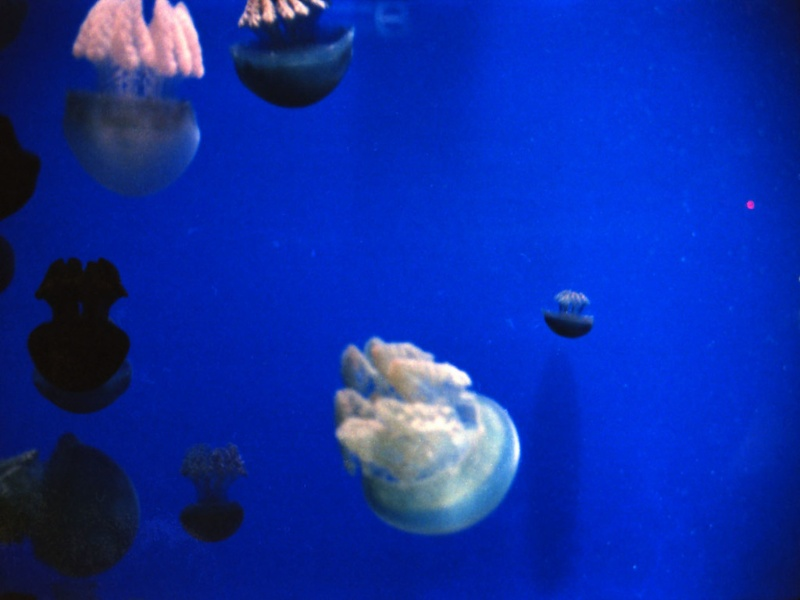Jellyfish: (323, 337, 527, 530), (62, 0, 209, 198), (0, 428, 143, 579), (28, 252, 134, 415), (229, 0, 352, 111), (176, 445, 245, 545), (544, 287, 591, 342)
